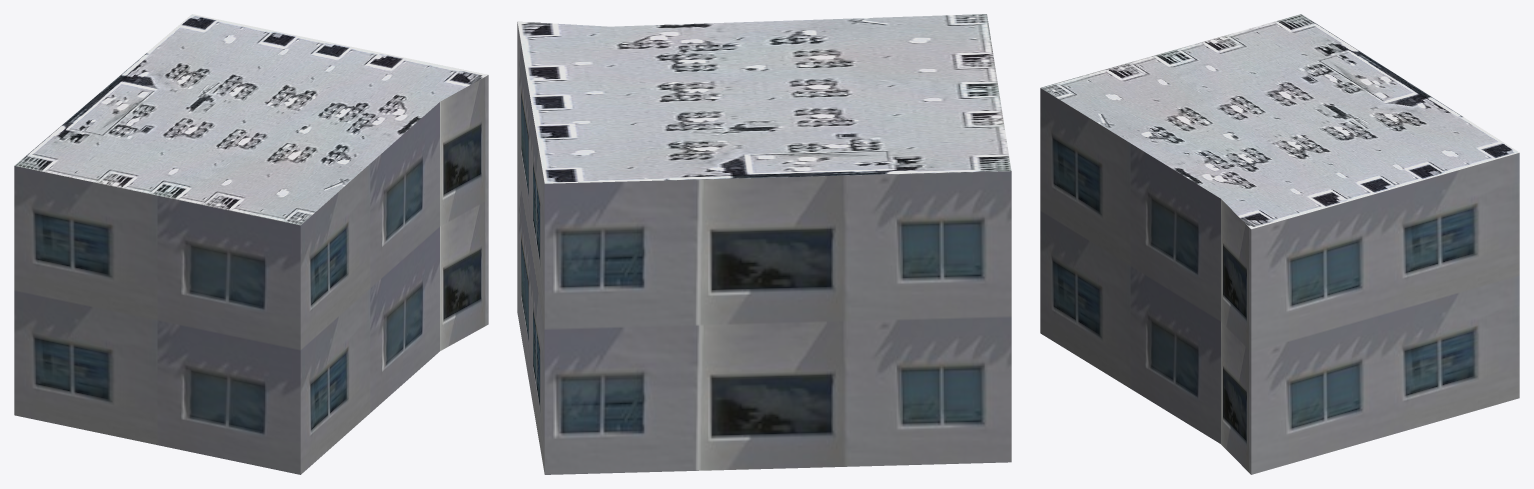
File: ResTex__2487.fbx
The picture shows the model from 3 angles, left to right: view 1: azimuth 30°, elevation 25°; view 2: azimuth 150°, elevation 25°; view 3: azimuth 270°, elevation 25°; orthographic projection. The views are drawn at different scales.
Parts seen in each view (by area): view 1: CityEngineMaterial_10_m, CityEngineMaterial_2_m; view 2: CityEngineMaterial_10_m, CityEngineMaterial_2_m; view 3: CityEngineMaterial_10_m, CityEngineMaterial_2_m.
Boxes of the visible parts, x1,y1,x2,y2 form: CityEngineMaterial_10_m: (14,75,488,474); CityEngineMaterial_2_m: (14,14,487,225); CityEngineMaterial_10_m: (517,22,1011,474); CityEngineMaterial_2_m: (517,14,1011,183); CityEngineMaterial_10_m: (1040,88,1519,474); CityEngineMaterial_2_m: (1040,14,1519,229).
Size of the model in its own units: 11.29 by 6 by 10.62.
2 materials, 2 textured.
